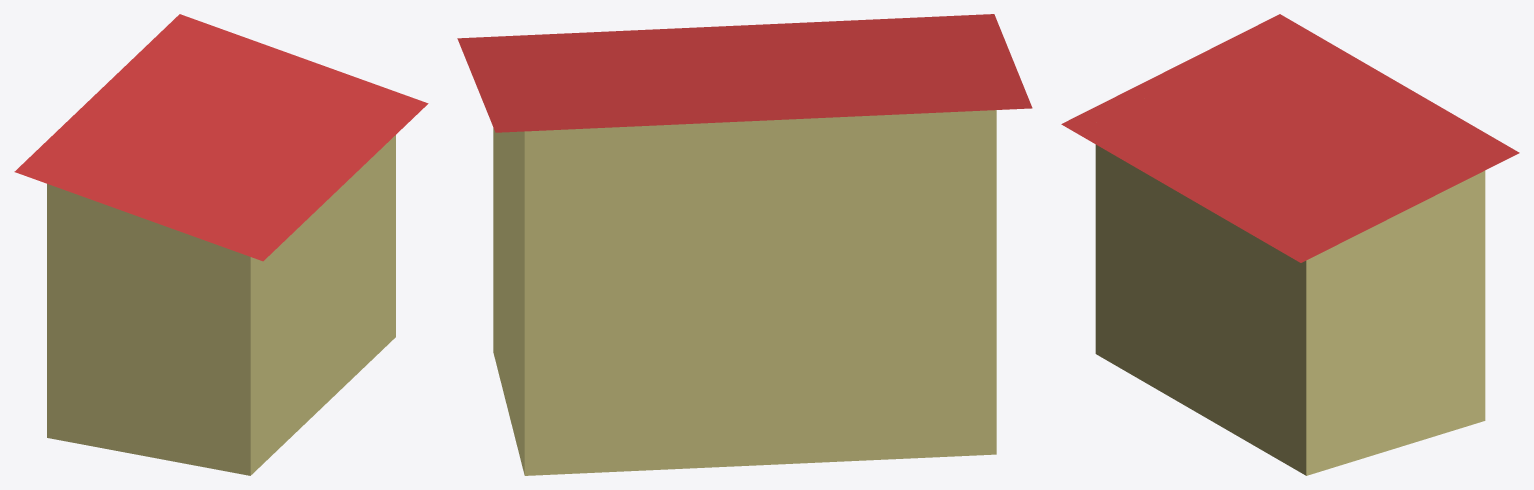
The picture shows the model from 3 angles, left to right: view 1: azimuth 30°, elevation 25°; view 2: azimuth 150°, elevation 25°; view 3: azimuth 270°, elevation 25°; orthographic projection. The views are drawn at different scales.
Size of the model in its own units: 9.88 by 9.28 by 6.03.
